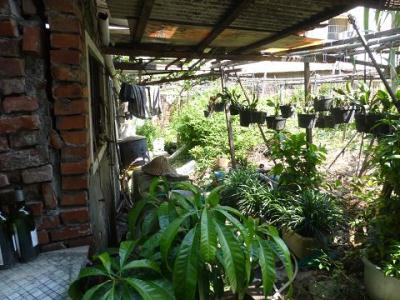bottle: (5, 183, 43, 264)
bucket: (118, 133, 150, 171)
